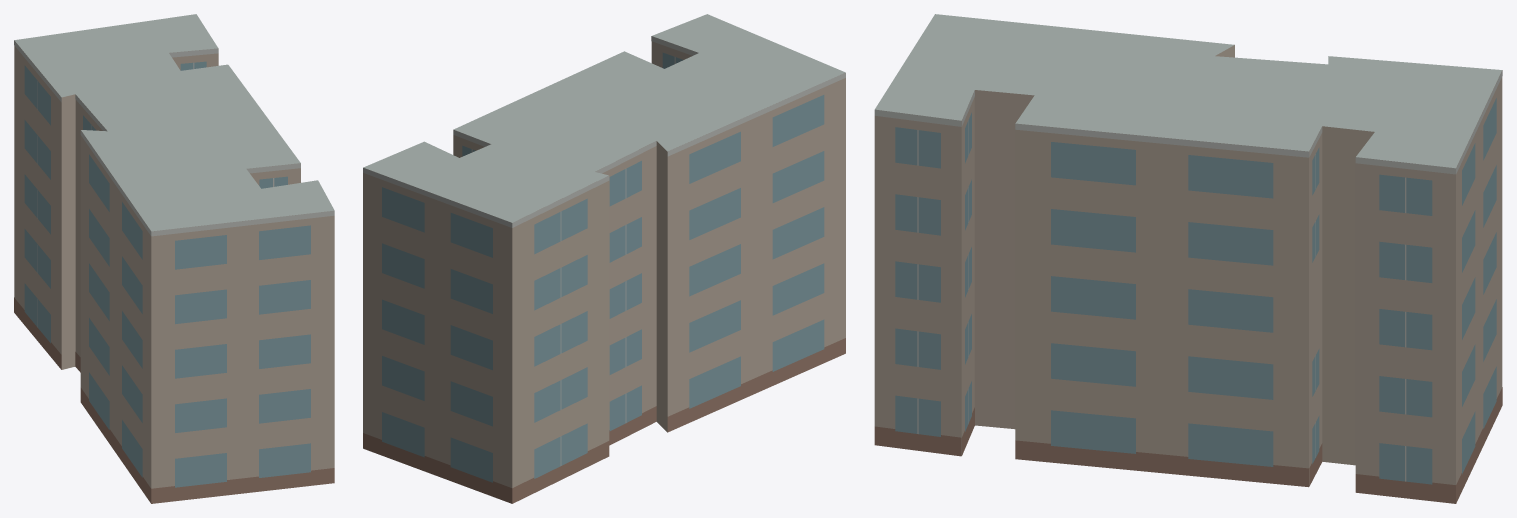
Rendered from survey-upis-32974711.glb.
The picture shows the model from 3 angles, left to right: view 1: azimuth 30°, elevation 25°; view 2: azimuth 150°, elevation 25°; view 3: azimuth 270°, elevation 25°; orthographic projection. The views are drawn at different scales.
Visible parts, largest first — view 1: survey-upis-32974711.tmp; view 2: survey-upis-32974711.tmp; view 3: survey-upis-32974711.tmp.
Boxes of the visible parts, bbox=[...] form: survey-upis-32974711.tmp: bbox=[14, 14, 334, 503]; survey-upis-32974711.tmp: bbox=[363, 14, 845, 503]; survey-upis-32974711.tmp: bbox=[874, 14, 1502, 503].
Bounding box in the file's own units: 13.02 × 13.2 × 22.39.
